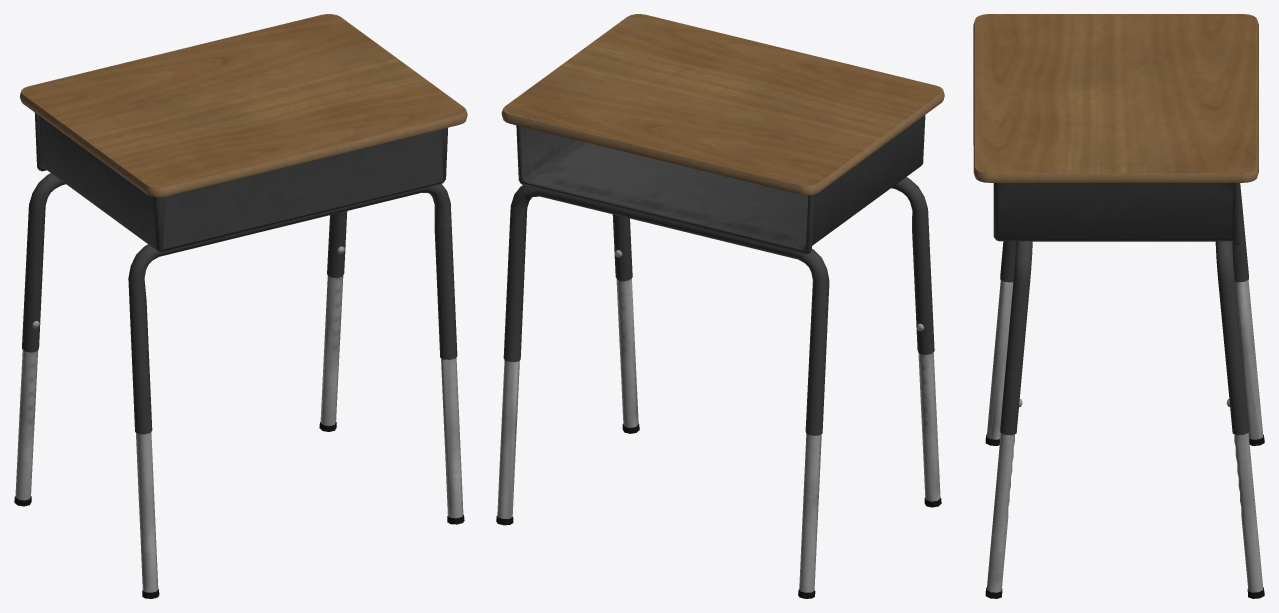
The model's file is ph_SchoolDesk_01.glb.
3 views of the same model, side by side, from view 1: azimuth 30°, elevation 25°; view 2: azimuth 150°, elevation 25°; view 3: azimuth 270°, elevation 25° (orthographic). The views are drawn at different scales.
Visible parts, largest first — view 1: SchoolDesk_01; view 2: SchoolDesk_01; view 3: SchoolDesk_01.
Boxes of the visible parts, box(x1,y1,x2,y2) form: SchoolDesk_01: box(14, 14, 467, 598); SchoolDesk_01: box(496, 14, 944, 598); SchoolDesk_01: box(973, 14, 1264, 598).
Bounding box in the file's own units: 0.7129 × 0.8822 × 0.5467.
1 material, 1 textured.
